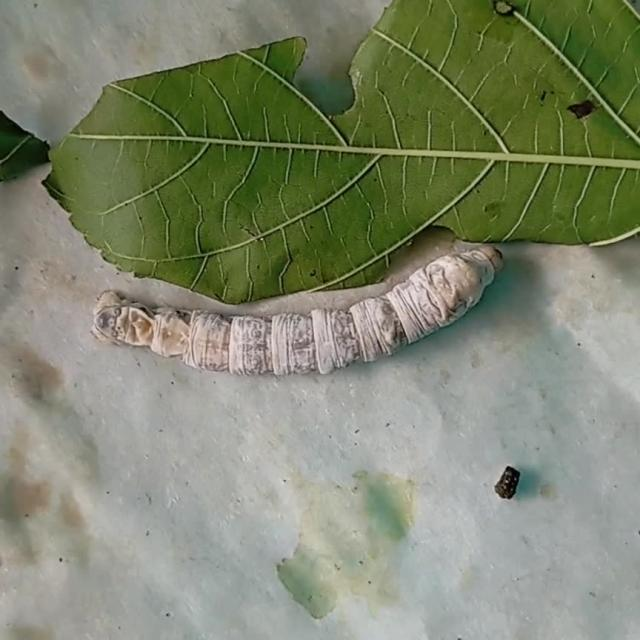Grasserie: (79, 238, 523, 388)
